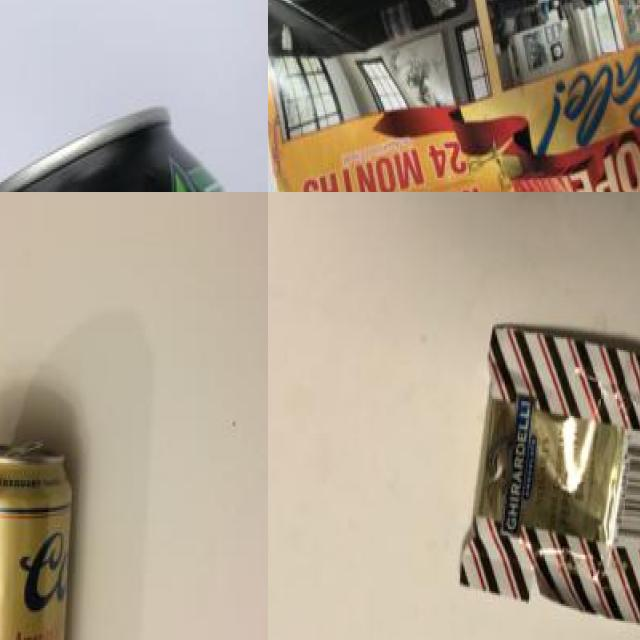paper: (268, 0, 640, 192)
plastic: (0, 91, 268, 192), (0, 415, 84, 640)
trash: (452, 306, 640, 640)
